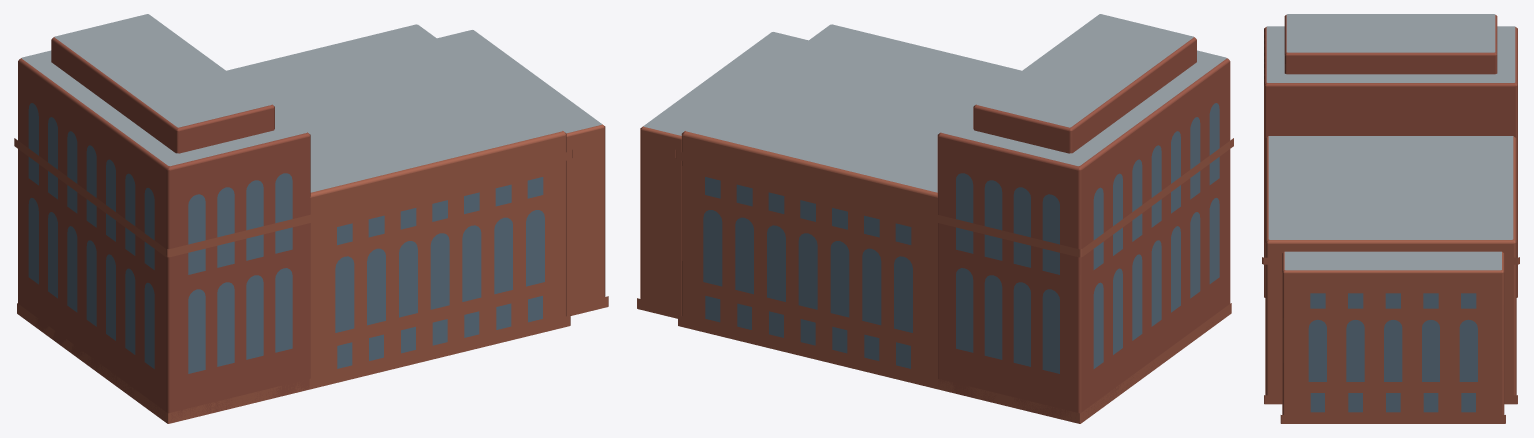
The model's file is nyc-gowanus-batcave.glb.
The picture shows the model from 3 angles, left to right: view 1: azimuth 30°, elevation 25°; view 2: azimuth 150°, elevation 25°; view 3: azimuth 270°, elevation 25°; orthographic projection. The views are drawn at different scales.
Visible parts, largest first — view 1: Gowanus Batcave; view 2: Gowanus Batcave; view 3: Gowanus Batcave.
Boxes of the visible parts, box(x1,y1,x2,y2) form: Gowanus Batcave: box(14, 14, 608, 423); Gowanus Batcave: box(637, 14, 1233, 423); Gowanus Batcave: box(1262, 14, 1519, 423).
Size of the model in its own units: 57.45 by 34 by 33.8.
